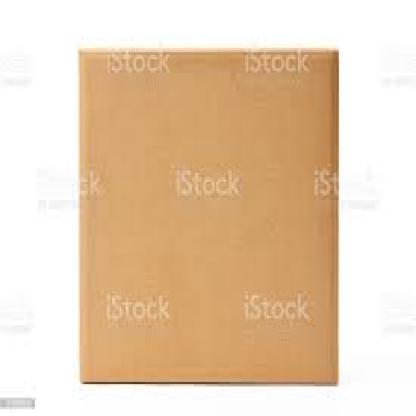CARDBOARD: (77, 46, 337, 384)
